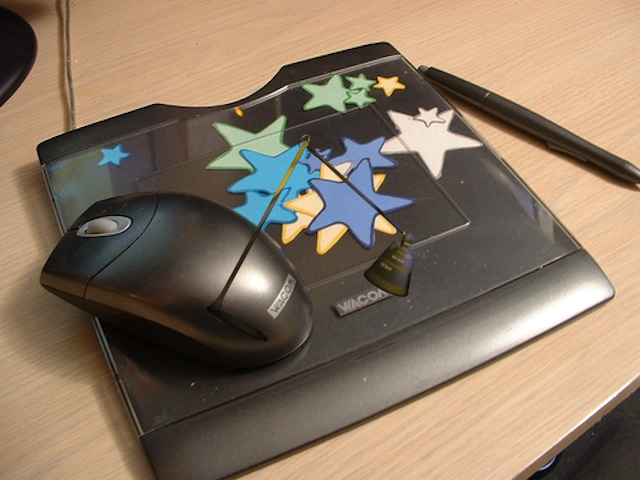desk_lamp: (201, 128, 417, 352)
